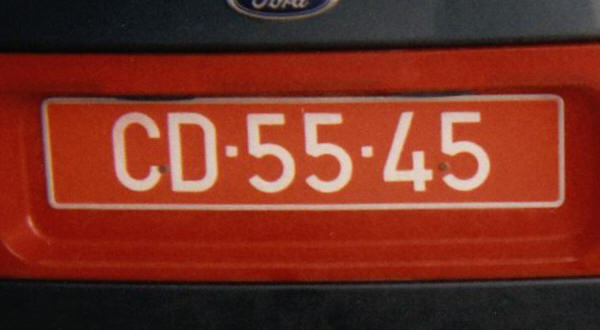license_plate: (41, 95, 565, 210)
